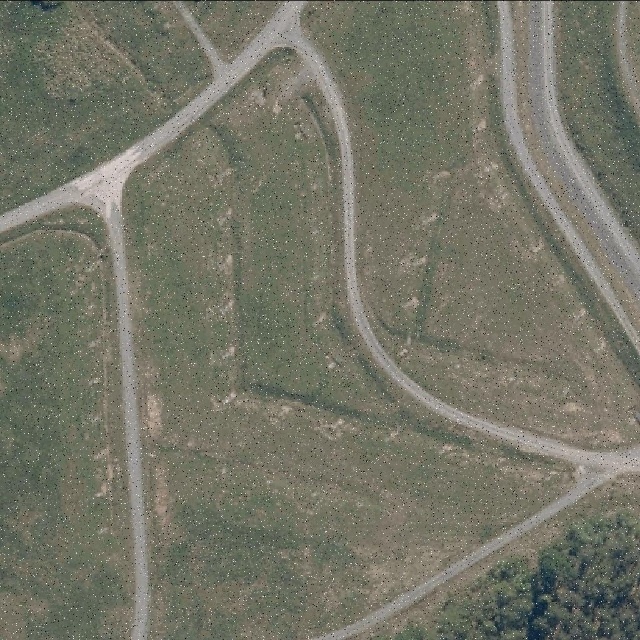vegetation: (377, 512, 640, 640)
